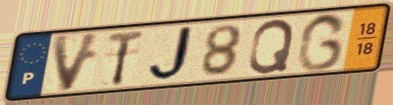8: (198, 23, 246, 78)
G: (294, 11, 350, 74)
J: (146, 24, 201, 85)
Q: (246, 17, 297, 76)
T: (105, 28, 147, 89)
V: (50, 30, 105, 95)
